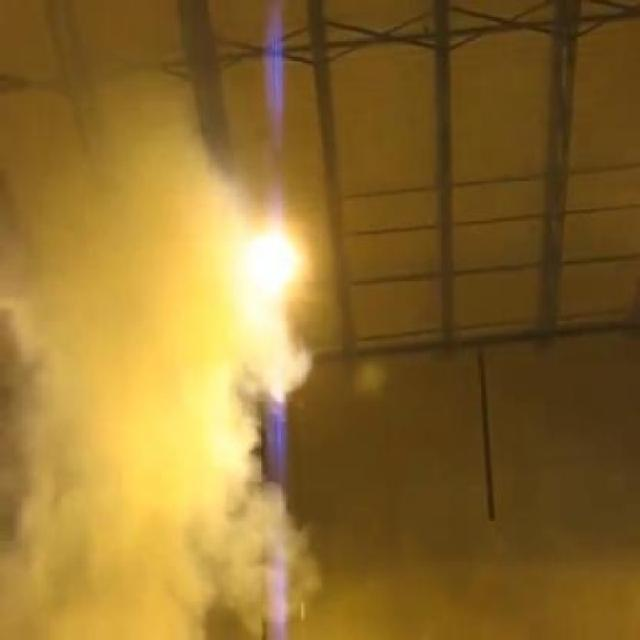fire: (1, 136, 330, 638)
